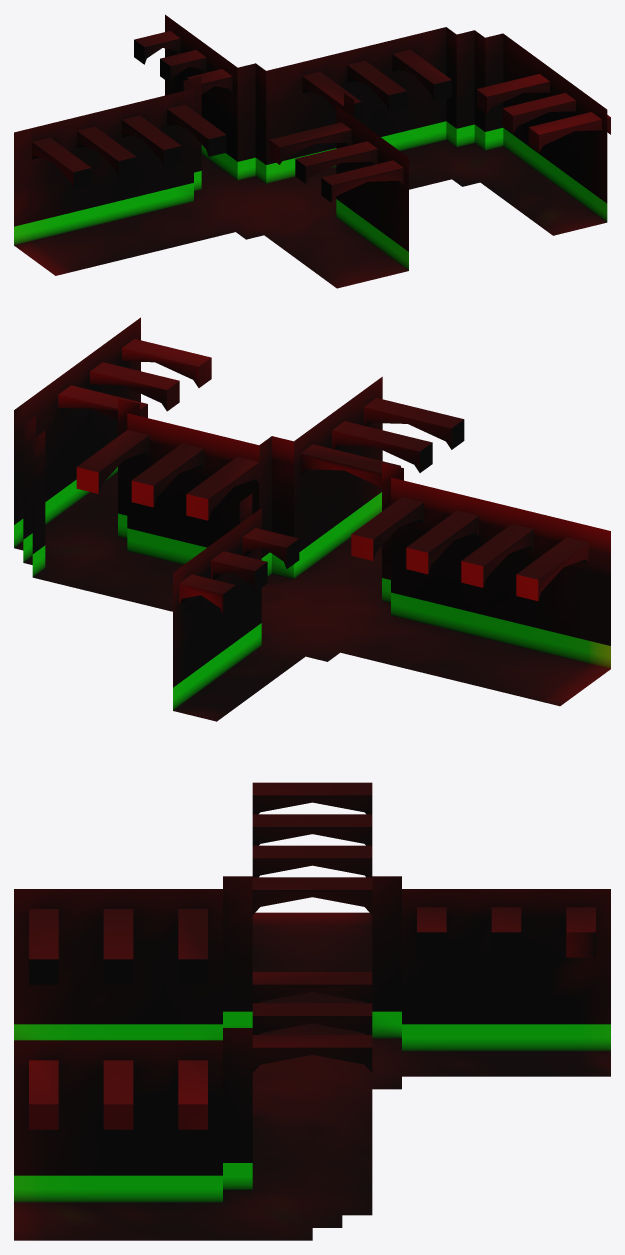
File: castle_trench_1_no_specular.glb
3 renders of one model, top to bottom at view 1: azimuth 30°, elevation 25°; view 2: azimuth 150°, elevation 25°; view 3: azimuth 270°, elevation 25°, orthographic. The views are drawn at different scales.
Visible parts, largest first — view 1: Wall, Floor, Rafters; view 2: Wall, Floor, Rafters; view 3: Wall, Floor, Rafters.
Part boxes in pixels (left/top/right/bottom): Wall: left=14, top=14, right=607, bottom=251; Floor: left=14, top=121, right=607, bottom=288; Rafters: left=32, top=31, right=610, bottom=202; Wall: left=14, top=317, right=610, bottom=687; Floor: left=14, top=467, right=610, bottom=721; Rafters: left=58, top=339, right=588, bottom=615; Wall: left=14, top=876, right=610, bottom=1175; Floor: left=14, top=912, right=610, bottom=1240; Rafters: left=29, top=782, right=595, bottom=1129.
Size of the model in its own units: 26.5 by 6 by 20.
